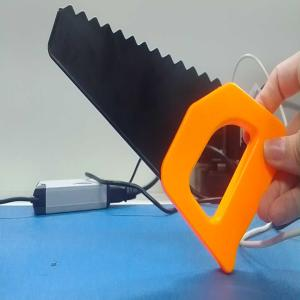serrote: (46, 3, 258, 275)
